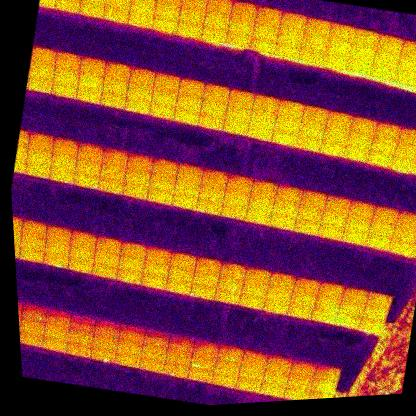Diode: (189, 352, 216, 372)
Hotspot: (102, 2, 131, 26), (40, 249, 71, 271), (123, 94, 152, 117), (25, 74, 54, 96), (89, 343, 118, 365), (202, 8, 231, 30), (194, 196, 224, 217), (19, 302, 49, 323), (293, 216, 321, 238), (247, 191, 275, 213), (142, 327, 171, 348), (188, 280, 216, 301), (115, 266, 143, 287), (164, 276, 193, 296), (216, 343, 243, 364), (168, 333, 195, 354), (162, 360, 190, 380), (217, 274, 243, 293)
Normal: (147, 98, 177, 122), (53, 49, 83, 73), (102, 59, 133, 82), (172, 104, 201, 128), (78, 54, 107, 78), (29, 44, 58, 68), (126, 6, 155, 30), (352, 26, 381, 50), (125, 150, 155, 173), (100, 145, 130, 168), (294, 130, 324, 153), (74, 83, 104, 106), (300, 103, 330, 126), (251, 92, 281, 115), (368, 59, 398, 82), (272, 38, 302, 61), (348, 41, 378, 64), (150, 12, 180, 35), (275, 24, 305, 47), (376, 32, 406, 55), (126, 66, 157, 88), (170, 189, 199, 212), (121, 179, 150, 202), (23, 158, 52, 181), (222, 186, 251, 209), (200, 166, 229, 189), (175, 161, 204, 184), (150, 155, 179, 178), (270, 125, 299, 148), (98, 88, 127, 111), (50, 78, 79, 101), (175, 90, 204, 113), (150, 85, 179, 108), (276, 98, 305, 121), (202, 81, 231, 104), (324, 36, 353, 59), (254, 4, 283, 27), (68, 228, 98, 250), (145, 184, 175, 206), (47, 164, 77, 186), (271, 195, 301, 217), (196, 111, 226, 133), (199, 96, 229, 118), (136, 353, 166, 375), (152, 70, 182, 92), (248, 33, 278, 55), (177, 3, 207, 25), (220, 199, 248, 222), (324, 192, 352, 215), (273, 112, 301, 135), (262, 295, 291, 317), (17, 243, 46, 265), (68, 241, 97, 263), (93, 234, 122, 256), (44, 223, 73, 245), (20, 217, 49, 239), (268, 210, 297, 232), (96, 174, 125, 196), (72, 168, 101, 190), (148, 170, 177, 192), (123, 165, 152, 187), (347, 199, 376, 221), (51, 135, 80, 157), (221, 115, 250, 137), (227, 87, 256, 109), (177, 76, 206, 98), (40, 333, 69, 355), (175, 18, 204, 40), (251, 19, 280, 41), (227, 13, 256, 35), (42, 319, 71, 341), (264, 353, 293, 375), (93, 317, 122, 339), (68, 311, 97, 333), (143, 244, 173, 265), (100, 75, 130, 96), (327, 22, 357, 43), (229, 0, 259, 21), (372, 204, 399, 227), (167, 262, 195, 284), (194, 254, 222, 276), (244, 205, 272, 227), (319, 137, 347, 159), (246, 120, 274, 142), (322, 122, 350, 144), (299, 117, 327, 139), (249, 106, 277, 128), (300, 30, 328, 52), (304, 16, 332, 38), (191, 338, 219, 360), (340, 226, 369, 247), (343, 212, 372, 233), (172, 176, 201, 197), (98, 161, 127, 182), (76, 71, 105, 92), (224, 28, 253, 49), (200, 22, 229, 43), (66, 325, 95, 346), (289, 358, 318, 379), (347, 128, 374, 150), (298, 44, 325, 66), (139, 271, 167, 292), (91, 259, 119, 280), (66, 254, 94, 275), (142, 259, 170, 280), (117, 252, 145, 273), (293, 276, 321, 297), (169, 250, 197, 271), (120, 239, 148, 260), (317, 220, 345, 241), (296, 203, 324, 224), (50, 150, 78, 171), (25, 145, 53, 166), (275, 182, 303, 203), (226, 172, 254, 193), (76, 141, 104, 162), (224, 102, 252, 123), (125, 80, 153, 101), (113, 348, 141, 369), (279, 10, 307, 31), (115, 336, 143, 357), (118, 322, 146, 343), (26, 131, 55, 151), (52, 66, 81, 86), (77, 0, 106, 20), (311, 305, 338, 326), (368, 218, 395, 239), (321, 207, 348, 228), (389, 153, 416, 174), (343, 143, 370, 164), (370, 134, 397, 155), (350, 115, 377, 136), (373, 48, 400, 69), (214, 356, 241, 377), (242, 348, 269, 369), (44, 237, 72, 257), (268, 270, 296, 290), (198, 182, 226, 202), (75, 156, 103, 176), (299, 188, 327, 208), (250, 177, 278, 197), (235, 374, 263, 394), (186, 365, 214, 385), (28, 60, 56, 80), (64, 339, 92, 359), (321, 51, 349, 71), (286, 371, 314, 391), (140, 341, 168, 361), (44, 307, 72, 327), (153, 0, 182, 19), (375, 121, 401, 142), (211, 369, 238, 389), (367, 148, 394, 168), (326, 110, 353, 130), (346, 57, 373, 77), (238, 361, 265, 381), (165, 346, 192, 366), (19, 233, 47, 252), (392, 66, 416, 88), (239, 290, 265, 310), (214, 286, 240, 306), (366, 290, 392, 310), (343, 285, 369, 305), (244, 266, 270, 286), (220, 260, 246, 280), (259, 379, 285, 399), (263, 366, 289, 386), (19, 328, 45, 348), (92, 333, 120, 351), (389, 236, 414, 256), (366, 232, 391, 252), (358, 315, 384, 334), (335, 311, 361, 330), (287, 301, 313, 320), (339, 298, 365, 317), (193, 269, 219, 288), (319, 281, 345, 300), (315, 363, 341, 382), (19, 316, 45, 335), (93, 249, 120, 267), (393, 222, 416, 243), (315, 293, 340, 312), (363, 303, 389, 321), (291, 290, 317, 308), (267, 283, 293, 301), (242, 279, 268, 297), (311, 376, 337, 394), (204, 0, 234, 15), (284, 384, 310, 401), (52, 0, 81, 15), (396, 210, 416, 231), (396, 52, 416, 73), (128, 0, 156, 15), (394, 140, 416, 159), (398, 126, 416, 147), (180, 0, 209, 11), (401, 39, 416, 60), (103, 0, 132, 10), (307, 389, 332, 399), (155, 0, 184, 6), (79, 0, 108, 5), (131, 0, 159, 0)
